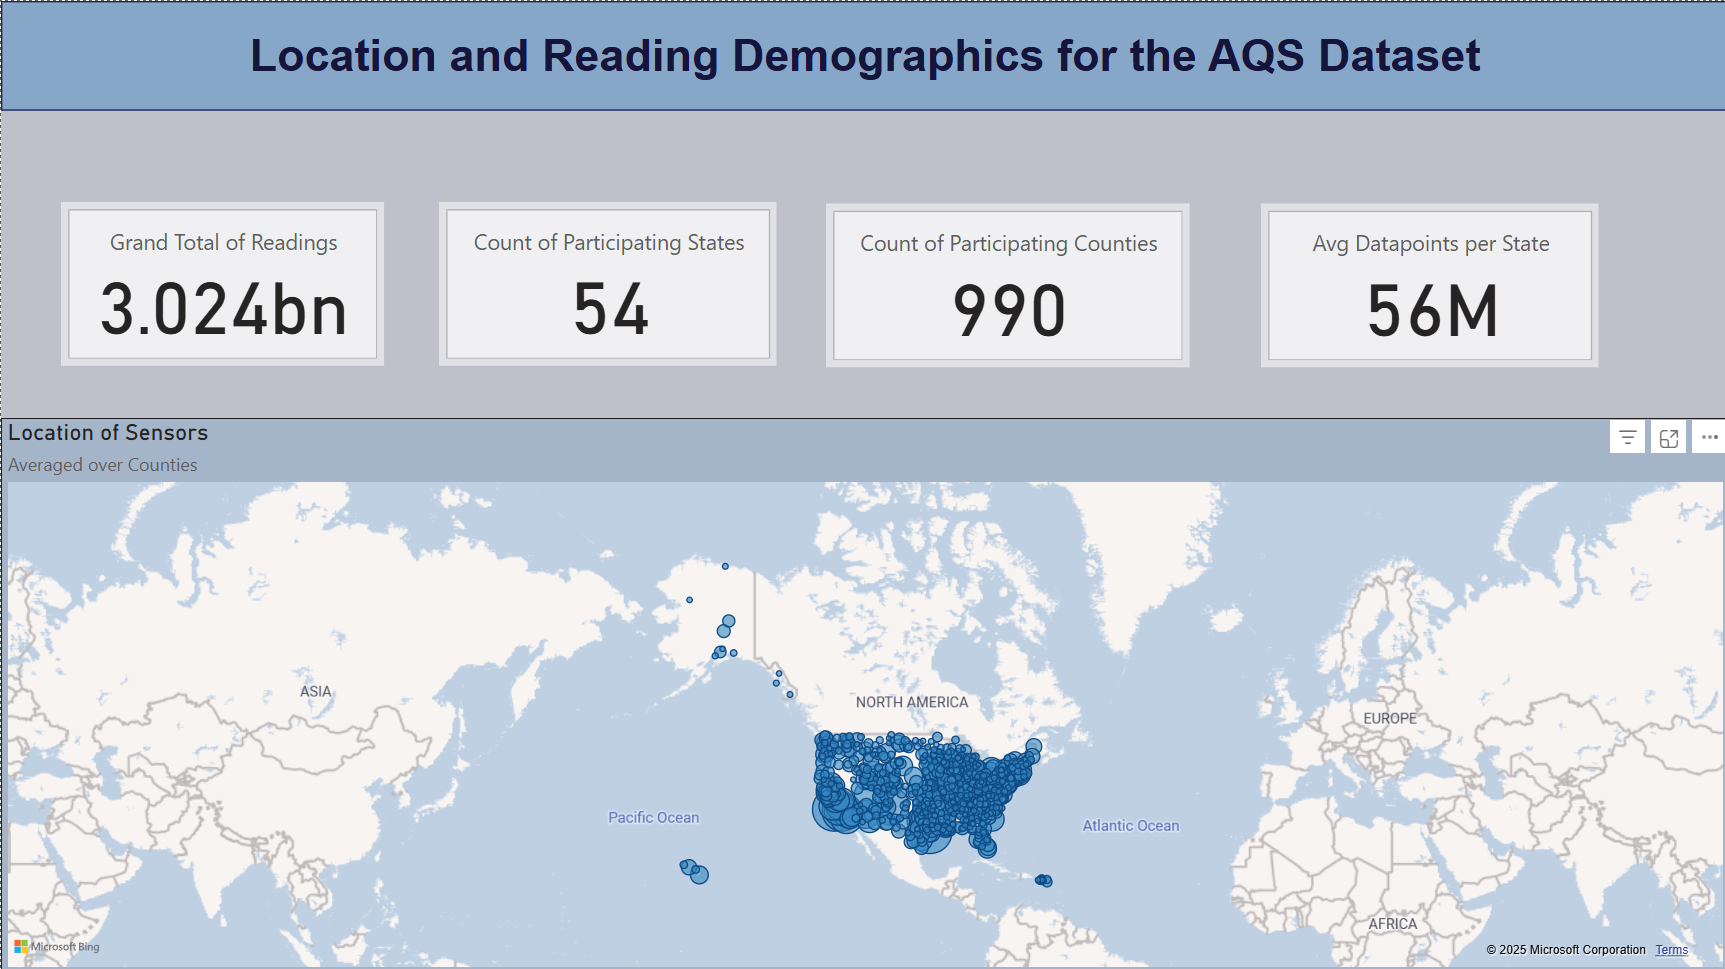

This screenshot's page, from the dashboard's own definition file:
{"tool":"powerbi","page":{"name":"Location Demographics","canvas":[1280,720],"ordinal":0},"visuals":[{"type":"map","title":"Location of Sensors","fields":{"Category":["`adls_gold_layer_catalog` `adls_data_marts` `reading_location_counts`.county_name"],"Y":["Avg(`adls_gold_layer_catalog` `adls_data_marts` `reading_location_counts`.latitude)"],"X":["Avg(`adls_gold_layer_catalog` `adls_data_marts` `reading_location_counts`.longitude)"],"Size":["Sum(`adls_gold_layer_catalog` `adls_data_marts` `reading_location_counts`.total_readings)"]},"box":[0,308.8,1280,411.2],"z":0},{"type":"cardVisual","fields":{"Data":["Sum(`adls_gold_layer_catalog` `adls_data_marts` `reading_location_counts`.total_readings)"]},"box":[44.7,148.7,239,121],"z":1000},{"type":"cardVisual","fields":{"Data":["Count(`adls_gold_layer_catalog` `adls_data_marts` `reading_location_counts`.state_name)"]},"box":[324.7,148.7,250,121],"z":2000},{"type":"cardVisual","fields":{"Data":["Count(`adls_gold_layer_catalog` `adls_data_marts` `reading_location_counts`.county_name)"]},"box":[610.7,149.7,269,121],"z":3000},{"type":"cardVisual","fields":{"Data":["`adls_gold_layer_catalog` `adls_data_marts` `reading_location_counts`.total_readings average per state_name"]},"box":[933.7,149.7,250,121],"z":4000},{"type":"shape","box":[0,0,1280,81.2],"z":5000}]}

Visuals, with their boxes in screenshot pixels (x1, y1, x2, y2), scaled from the page's 1280x720 canvas onto the 1725x969 screenshot:
"Location of Sensors" map: detection(0, 416, 1724, 968)
cardVisual - Sum(`adls_gold_layer_catalog` `adls_data_marts` `reading_location_counts`.total_readings): detection(60, 200, 382, 363)
cardVisual - Count(`adls_gold_layer_catalog` `adls_data_marts` `reading_location_counts`.state_name): detection(438, 200, 774, 363)
cardVisual - Count(`adls_gold_layer_catalog` `adls_data_marts` `reading_location_counts`.county_name): detection(823, 201, 1186, 364)
cardVisual - `adls_gold_layer_catalog` `adls_data_marts` `reading_location_counts`.total_readings average per state_name: detection(1258, 201, 1595, 364)
shape: detection(0, 0, 1724, 109)
